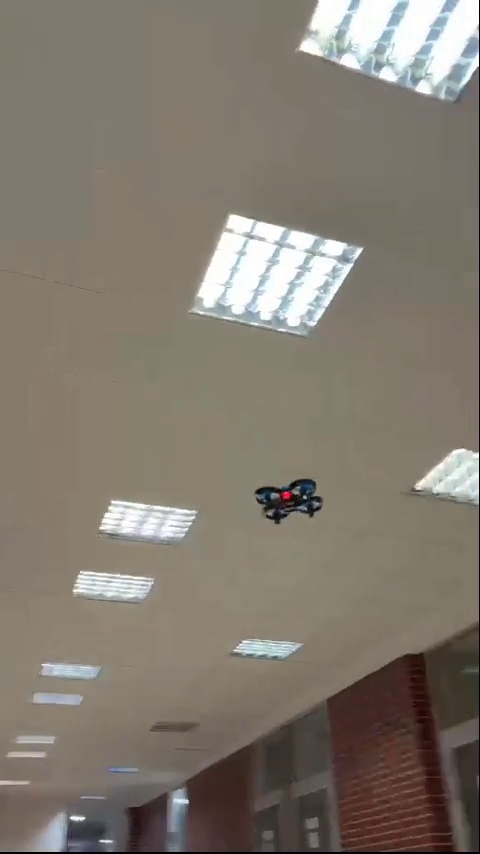drone: (252, 478, 328, 527)
